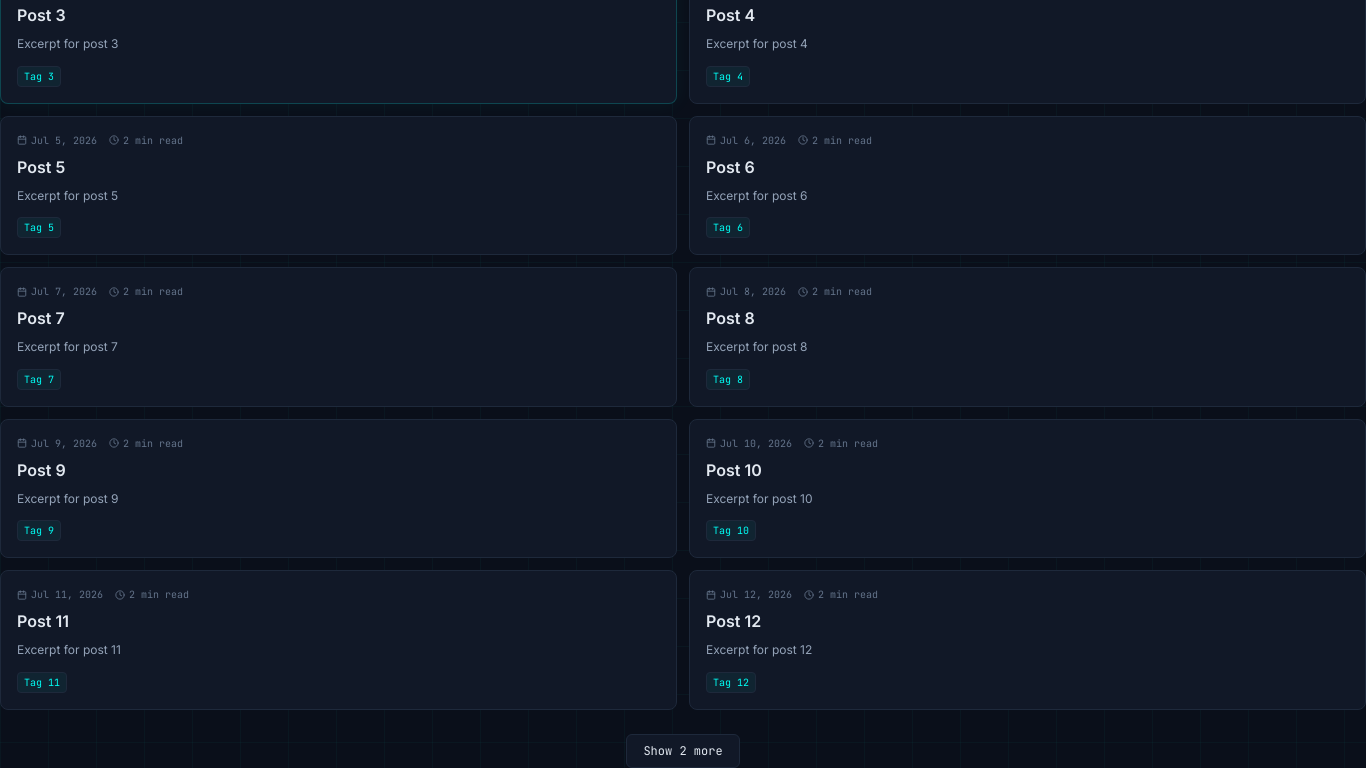
Test: BlogIndex › shows a concise first page and reveals more posts on demand
The width and height of the screenshot is (1366, 768).
(page scrolled)
Expected: the heading "Post 12" is shown, x1=706 y1=611 x2=761 y2=631
Expected: the text "Post 13" is not shown
Click the button "Show 2 more" at {"x": 683, "y": 750}, box x1=626 y1=734 x2=740 y2=767
(page scrolled)
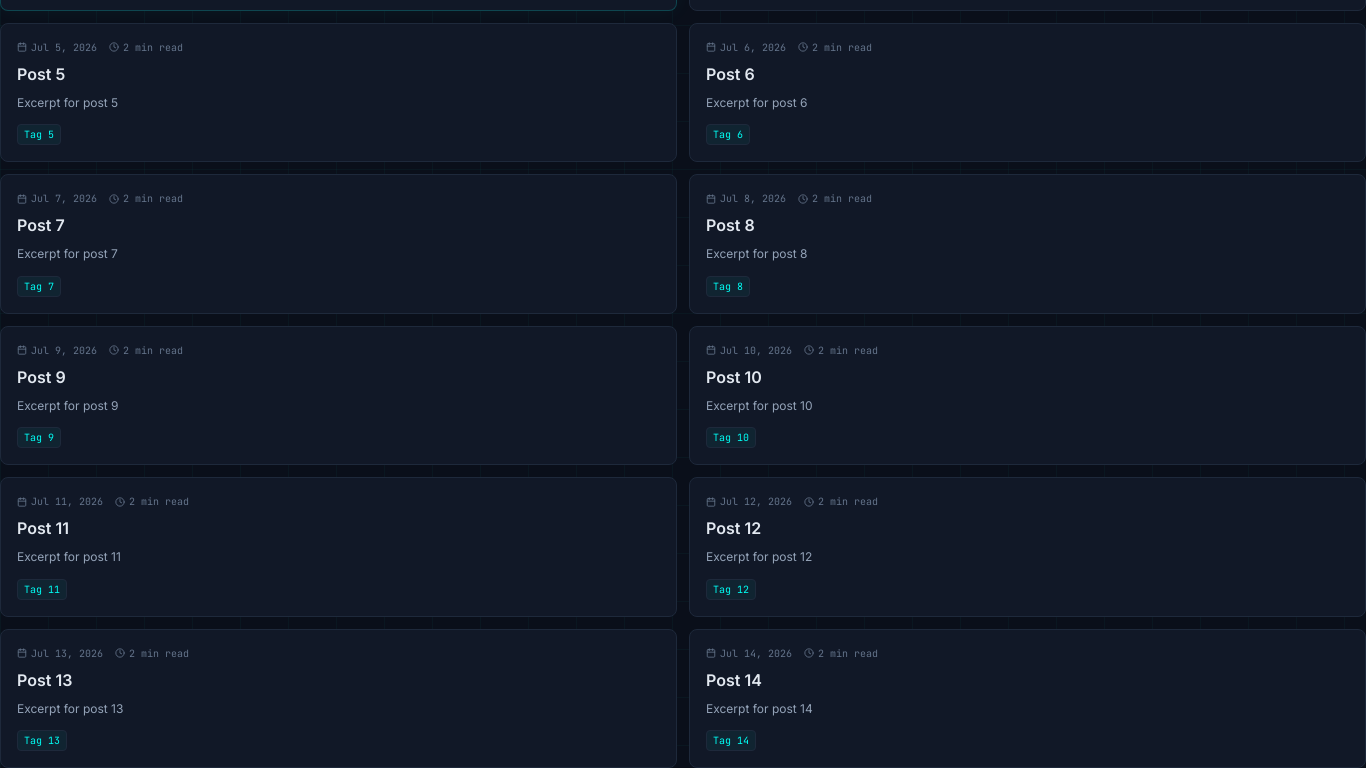
Now the heading "Post 13" is shown, box x1=17 y1=670 x2=72 y2=690
Now the heading "Post 14" is shown, box x1=706 y1=670 x2=762 y2=690
